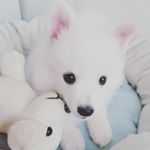puppy: (39, 1, 137, 127)
